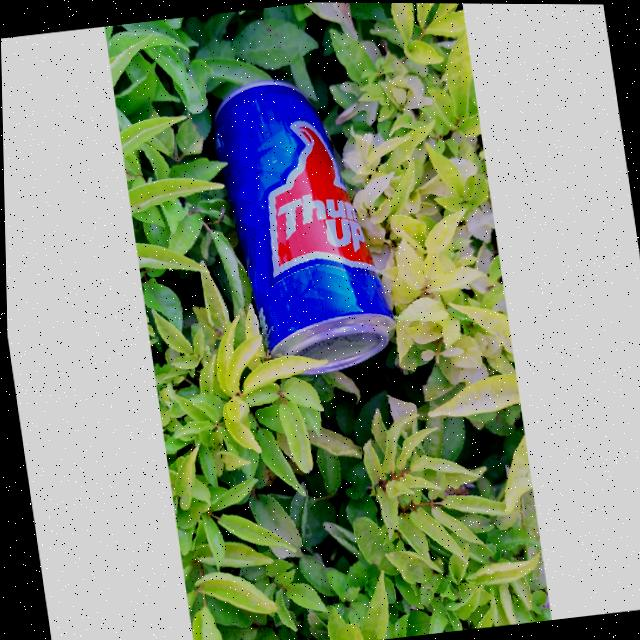Thums Up: (197, 63, 405, 385)
